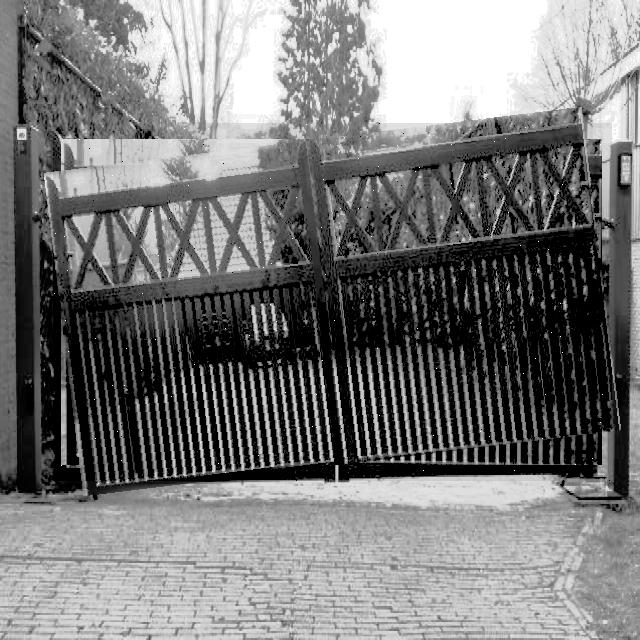fences: (53, 123, 612, 481)
